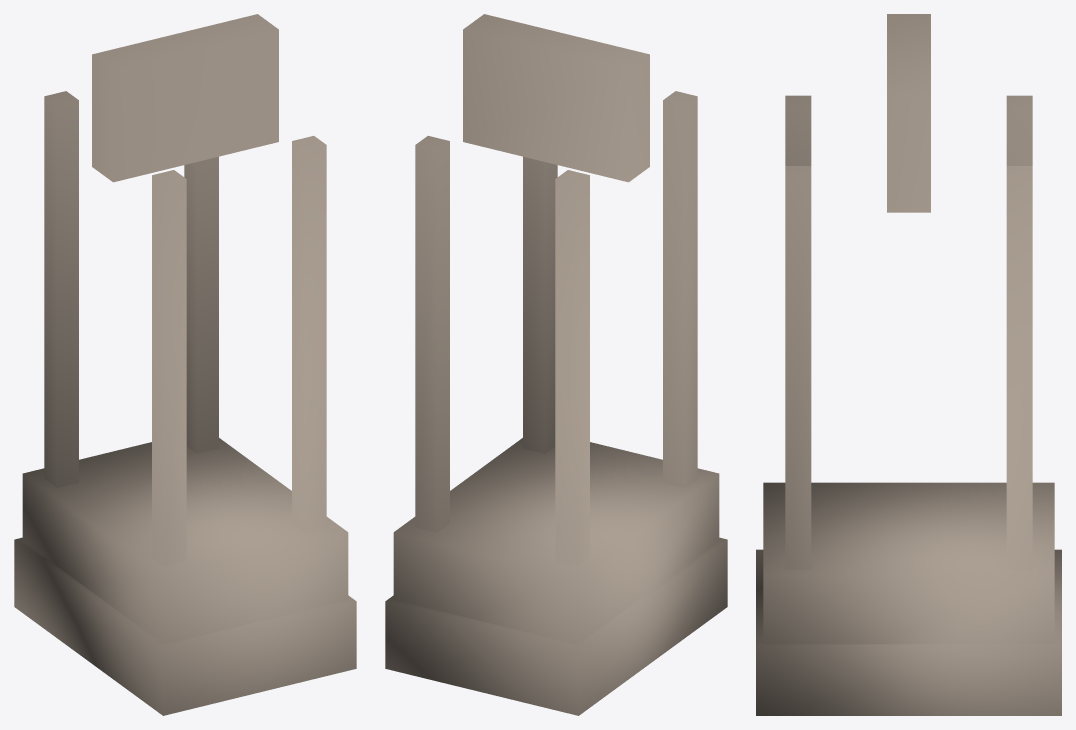
Rendered from sanctuary_of_artemis.obj.
3 renders of one model, left to right at view 1: azimuth 30°, elevation 25°; view 2: azimuth 150°, elevation 25°; view 3: azimuth 270°, elevation 25°, orthographic. The views are drawn at different scales.
Visible parts, largest first — view 1: building; view 2: building; view 3: building.
Part boxes in pixels (x1,y1,x2,y2): building: (14,14,356,715); building: (385,14,727,715); building: (756,14,1061,715).
Size of the model in its own units: 3.15 by 9.27 by 4.2.
